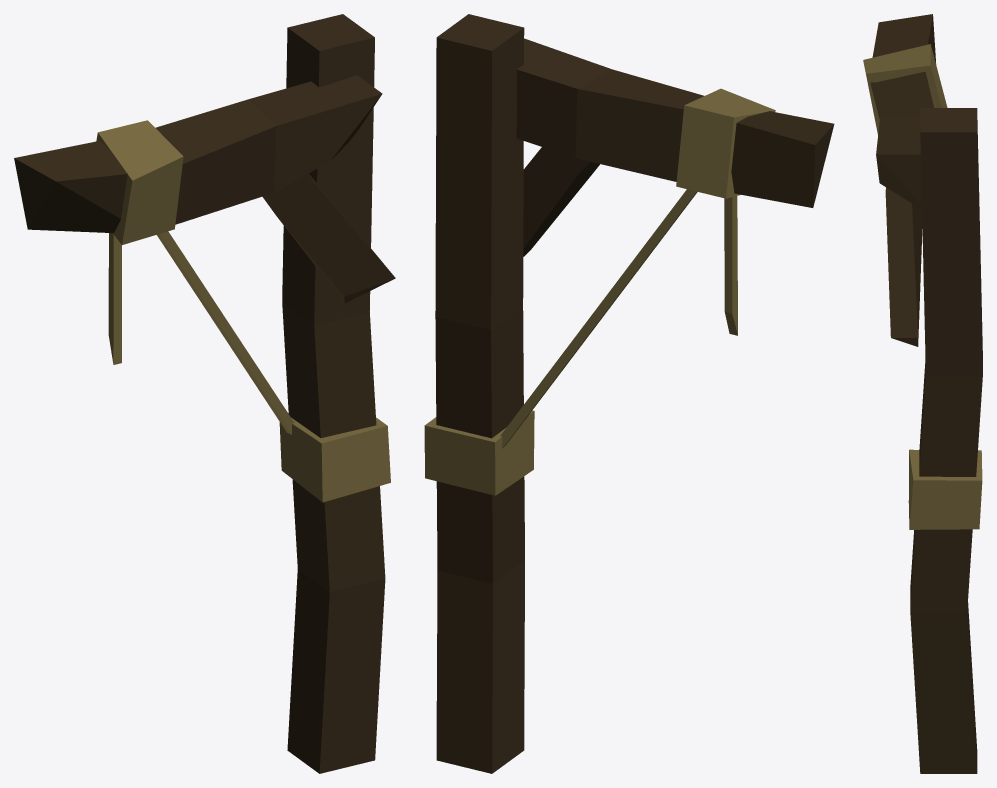
The model's file is decoration3.fbx.
3 renders of one model, left to right at view 1: azimuth 30°, elevation 25°; view 2: azimuth 150°, elevation 25°; view 3: azimuth 270°, elevation 25°, orthographic. The views are drawn at different scales.
Parts seen in each view (by area): view 1: Wood_Hanger03; view 2: Wood_Hanger03; view 3: Wood_Hanger03.
Part boxes in pixels (x1,y1,x2,y2): Wood_Hanger03: (14,14,395,773); Wood_Hanger03: (424,14,834,773); Wood_Hanger03: (863,14,982,773).
Size of the model in its own units: 438 by 831 by 141.
